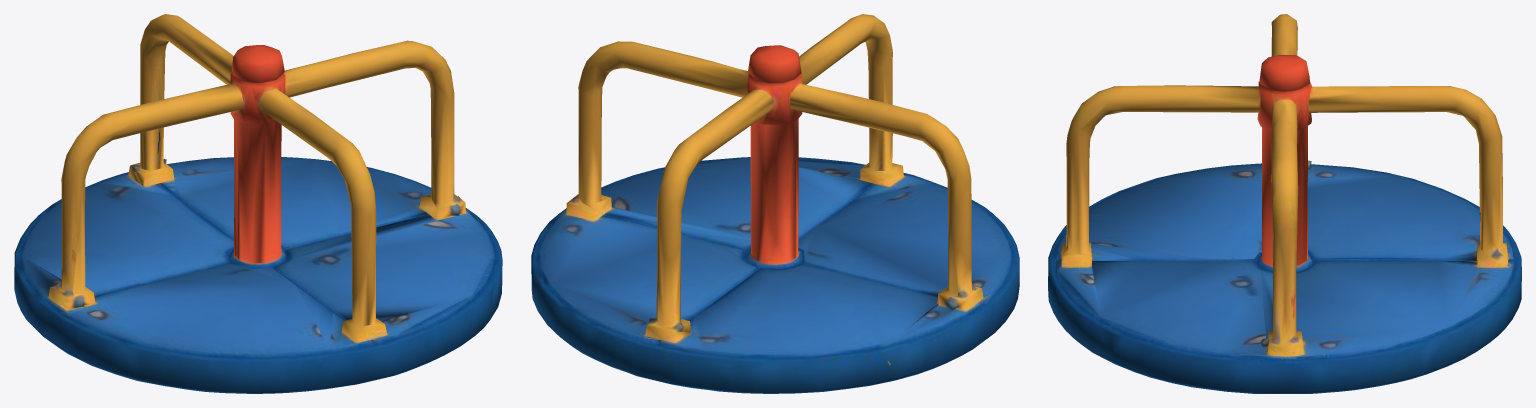
File: roundabout.glb
3 views of the same model, side by side, from view 1: azimuth 30°, elevation 25°; view 2: azimuth 150°, elevation 25°; view 3: azimuth 270°, elevation 25° (orthographic). The views are drawn at different scales.
Visible parts, largest first — view 1: model; view 2: model; view 3: model.
Boxes of the visible parts, x1,y1,x2,y2 form: model: [14, 14, 502, 393]; model: [531, 14, 1019, 393]; model: [1048, 14, 1521, 393].
Size of the model in its own units: 1.89 by 1.06 by 1.9.
1 material, 1 textured.
